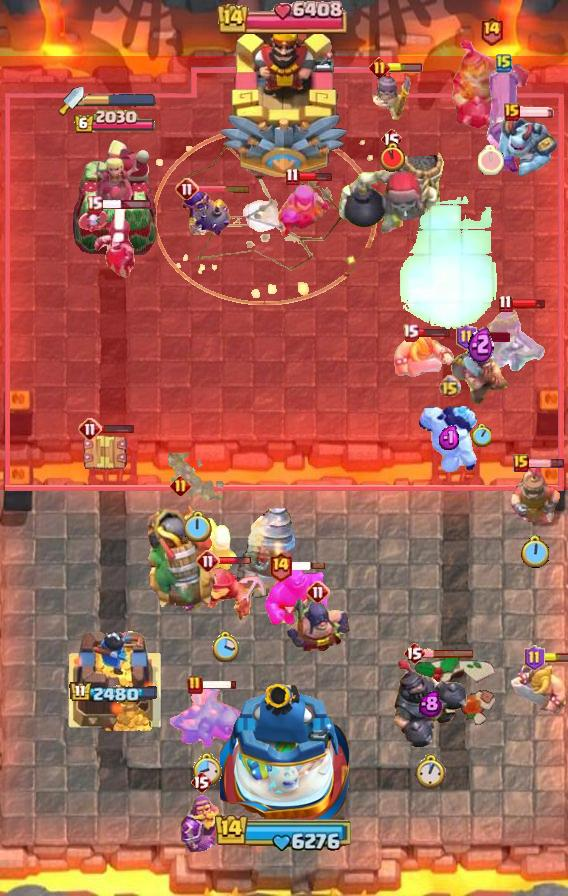bandit: (449, 333, 513, 407)
bar: (70, 138, 158, 256)
barbarian-hut: (482, 306, 556, 374)
battle-healer: (481, 70, 527, 174)
clock: (214, 812, 354, 852), (217, 0, 351, 34)
earthquake: (511, 459, 561, 525)
electro-giant: (335, 142, 447, 252)
electro-spirit: (468, 325, 494, 364), (418, 690, 441, 717), (438, 425, 461, 451)
elixir: (414, 754, 445, 790), (521, 534, 551, 569), (192, 753, 222, 787), (211, 630, 239, 664), (185, 511, 212, 542), (478, 145, 504, 175), (380, 142, 405, 172), (472, 424, 493, 448)
elixir-golem-small: (494, 112, 558, 178)
emote: (100, 199, 152, 210), (423, 649, 475, 660), (197, 183, 251, 192), (517, 106, 555, 118), (298, 171, 334, 183), (510, 298, 546, 310), (417, 326, 452, 338), (201, 679, 239, 690), (528, 458, 565, 469), (100, 423, 135, 434), (387, 63, 423, 73), (474, 332, 510, 342), (290, 561, 326, 571), (218, 556, 252, 566), (542, 653, 568, 663)
fireball: (181, 565, 269, 627)
firecracker-evolution: (180, 795, 225, 854)
fisherman: (168, 453, 229, 499)
goblin-ball: (178, 185, 232, 241)
goblin-brawler: (81, 430, 131, 476)
goblin-giant: (510, 656, 568, 716), (392, 331, 454, 379)
graveyard: (165, 685, 249, 749)
guard: (154, 126, 378, 305)
king-tower: (219, 23, 349, 181), (219, 678, 349, 826)
king-tower-bar: (84, 93, 156, 107)
magic-archer: (237, 507, 297, 599)
mega-knight: (396, 196, 499, 333)
monk: (285, 597, 351, 655)
night-witch: (140, 499, 220, 607)
princess: (371, 64, 413, 122)
queen-tower: (66, 621, 162, 731)
rage: (416, 403, 482, 477)
rascal-boy: (76, 207, 138, 279)
rascal-girl: (276, 180, 332, 240)
royal-guardian: (451, 39, 531, 131), (391, 657, 469, 751)
selected: (69, 681, 159, 705), (72, 109, 155, 135)
text: (479, 14, 504, 45), (268, 550, 293, 581), (175, 177, 199, 201), (78, 417, 102, 441), (196, 549, 220, 573), (306, 580, 330, 604), (456, 324, 477, 350), (524, 645, 545, 671), (438, 375, 461, 398), (380, 127, 402, 151), (403, 641, 425, 665), (190, 770, 212, 794), (369, 57, 390, 79), (169, 476, 190, 497), (85, 195, 103, 214), (401, 323, 419, 342), (496, 53, 512, 73), (187, 675, 203, 695), (504, 103, 520, 121), (513, 454, 529, 472), (285, 167, 300, 186), (499, 295, 513, 314)
tombstone: (198, 515, 240, 573)
tornado: (265, 566, 327, 626)
